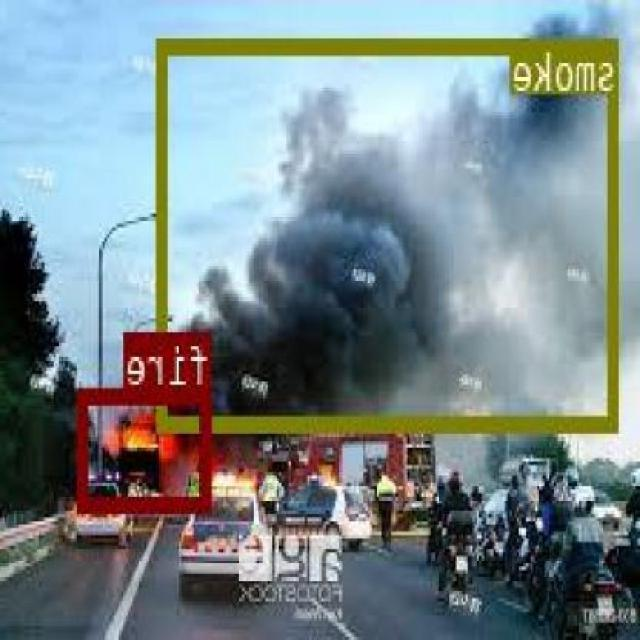Fire: (79, 386, 213, 508)
Smoke: (158, 34, 622, 430)
